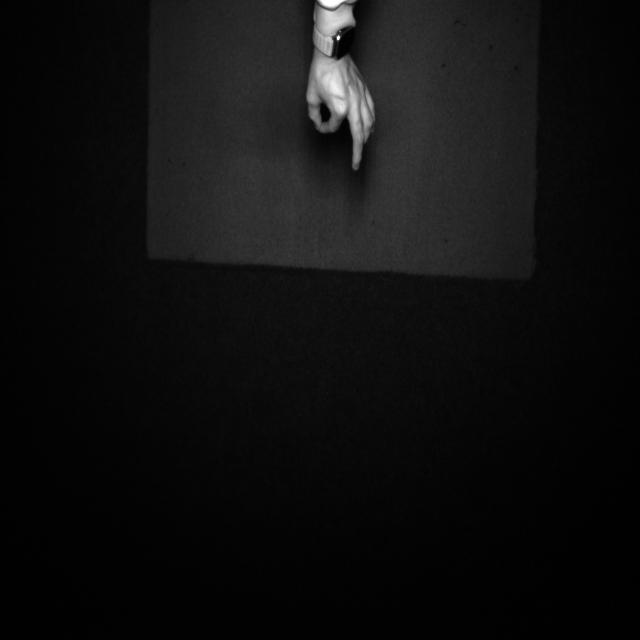hand: (299, 49, 383, 173)
